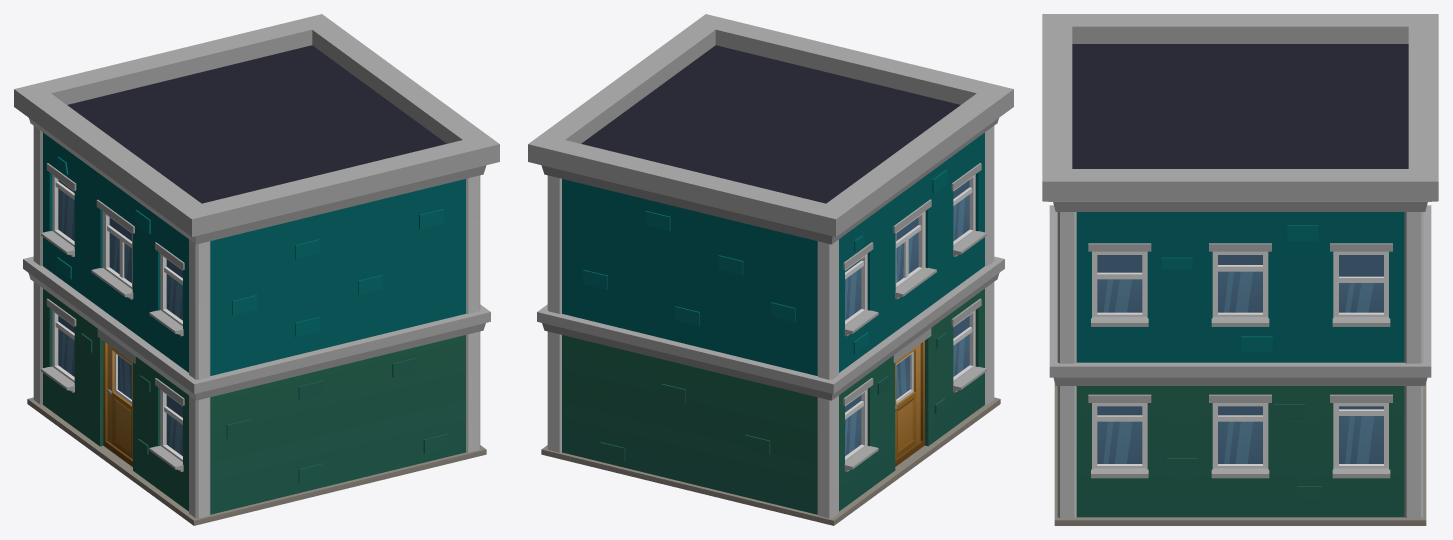
Rendered from Building_2_3_H.fbx.
The picture shows the model from 3 angles, left to right: view 1: azimuth 30°, elevation 25°; view 2: azimuth 150°, elevation 25°; view 3: azimuth 270°, elevation 25°; orthographic projection. The views are drawn at different scales.
Visible parts, largest first — view 1: Building_2_3_H; view 2: Building_2_3_H; view 3: Building_2_3_H.
Part boxes in pixels (left/top/right/bottom): Building_2_3_H: left=14, top=14, right=499, bottom=525; Building_2_3_H: left=528, top=14, right=1013, bottom=525; Building_2_3_H: left=1042, top=14, right=1438, bottom=525.
Size of the model in its own units: 620 by 602 by 620.
